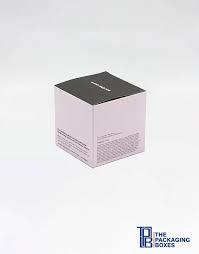cube: (53, 71, 148, 167)
